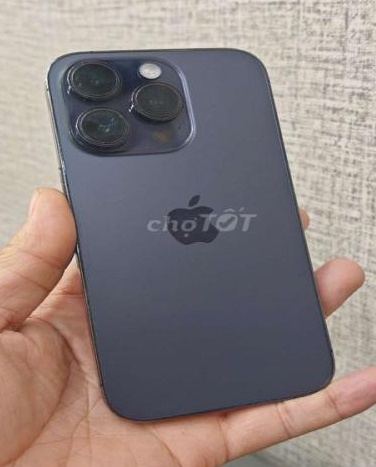physical_damage: (46, 146, 82, 246)
scratch: (69, 102, 130, 155), (64, 55, 139, 98), (129, 81, 196, 126)
